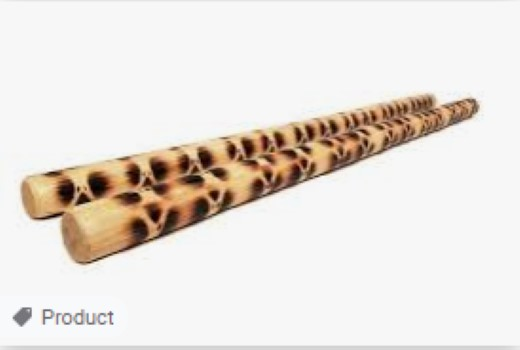baston_e: (70, 38, 425, 186), (121, 106, 453, 258)
baston_v: (54, 201, 106, 273), (8, 162, 48, 222), (417, 85, 442, 109), (463, 91, 483, 120)
